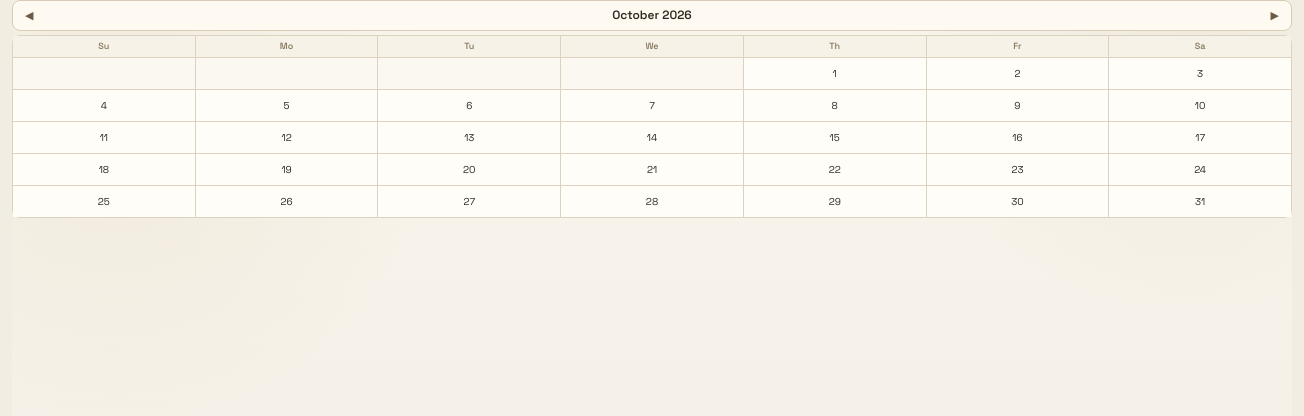
Test case: Calendar › retries once with a refreshed token after a 401
Click the button "15". click: (835, 138)
box: [744,122,926,153]
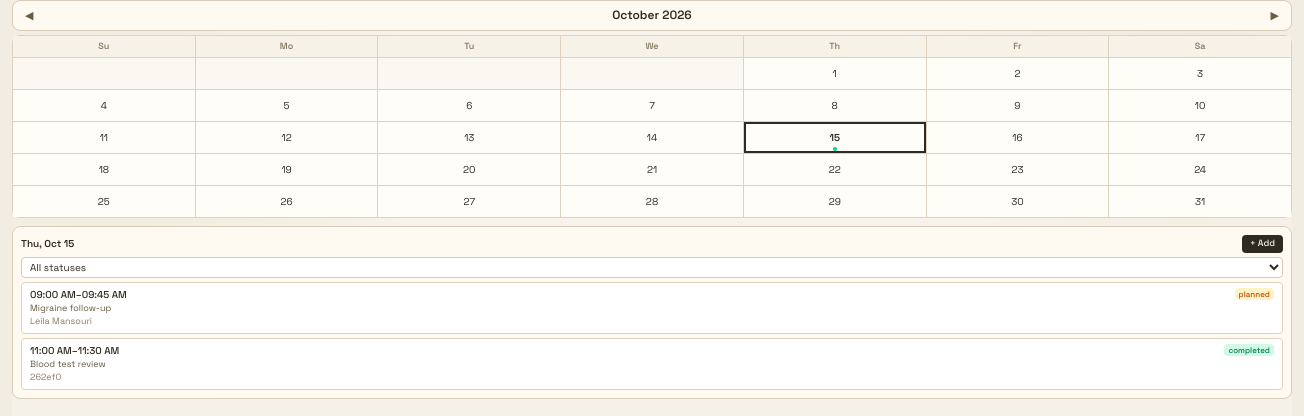
Expected: the text "Migraine follow-up" is shown, [30,302,111,314]
